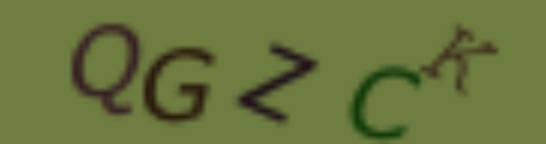C: (347, 63, 421, 141)
G: (139, 43, 216, 126)
K: (421, 22, 500, 96)
Q: (65, 20, 142, 118)
Z: (235, 40, 323, 126)
